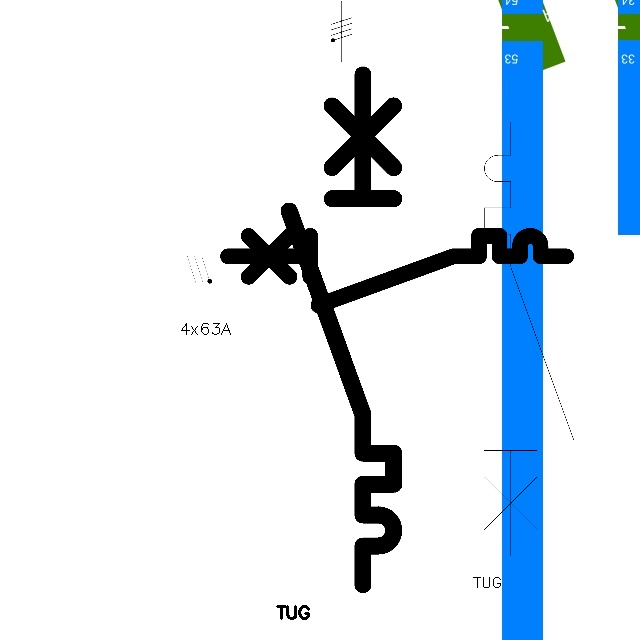interruptor_termomagnetico: (276, 61, 407, 597), (473, 111, 584, 567), (219, 227, 575, 314)
